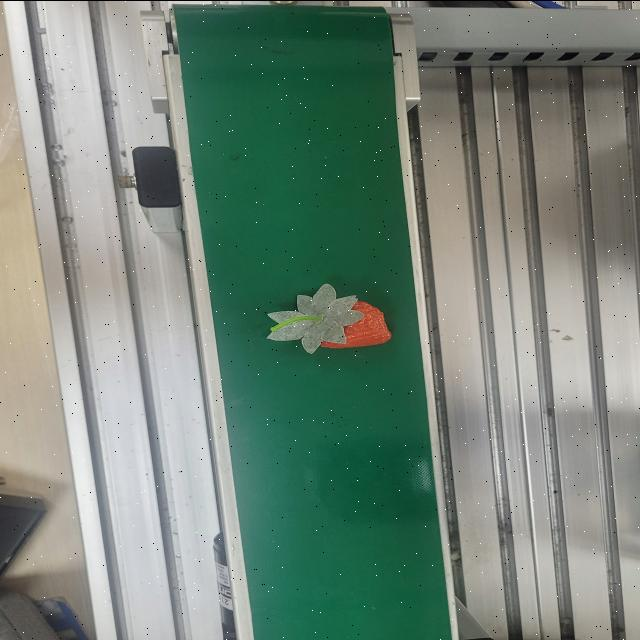Small Ripe Strawberry: (262, 282, 393, 354)
